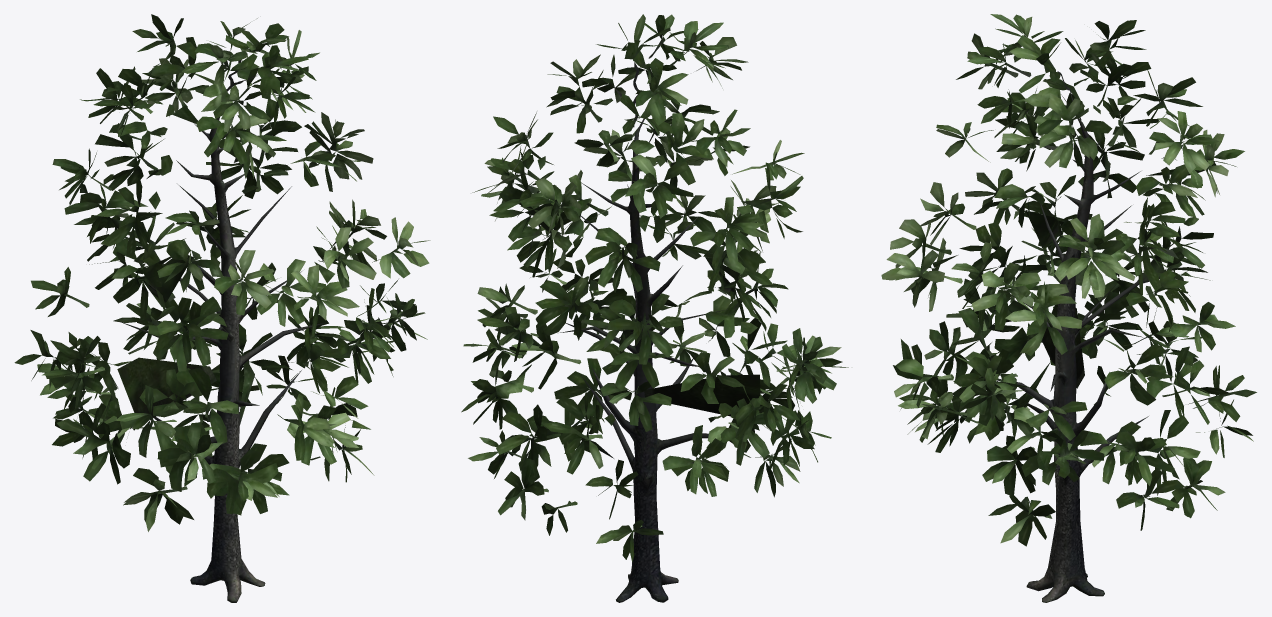
File: ashoka_b.glb
3 renders of one model, left to right at view 1: azimuth 30°, elevation 25°; view 2: azimuth 150°, elevation 25°; view 3: azimuth 270°, elevation 25°, orthographic.
Parts seen in each view (by area): view 1: tripo_node_686601a7-45fc-4f88-8a28-bfead9d925aa; view 2: tripo_node_686601a7-45fc-4f88-8a28-bfead9d925aa; view 3: tripo_node_686601a7-45fc-4f88-8a28-bfead9d925aa.
Part boxes in pixels (left/top/right/bottom): tripo_node_686601a7-45fc-4f88-8a28-bfead9d925aa: left=14, top=14, right=430, bottom=602; tripo_node_686601a7-45fc-4f88-8a28-bfead9d925aa: left=461, top=14, right=848, bottom=602; tripo_node_686601a7-45fc-4f88-8a28-bfead9d925aa: left=881, top=14, right=1256, bottom=602.
Bounding box in the file's own units: 7.03 × 10 × 6.09.
1 material, 1 textured.
